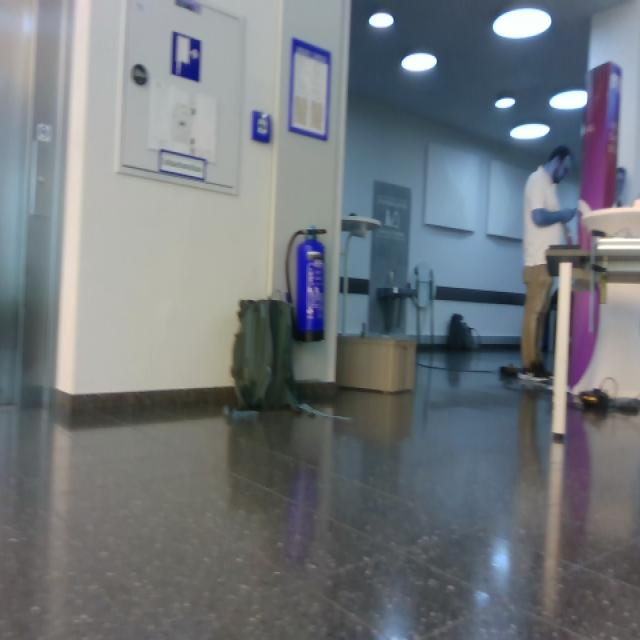door: (57, 1, 283, 396)
fire extinguisher: (285, 227, 328, 343)
light bulb: (492, 6, 552, 40), (549, 89, 588, 110), (510, 122, 551, 141), (401, 52, 438, 73), (369, 12, 395, 29), (495, 96, 516, 109)
person: (519, 145, 579, 381)
tiled floor: (1, 345, 639, 638)
